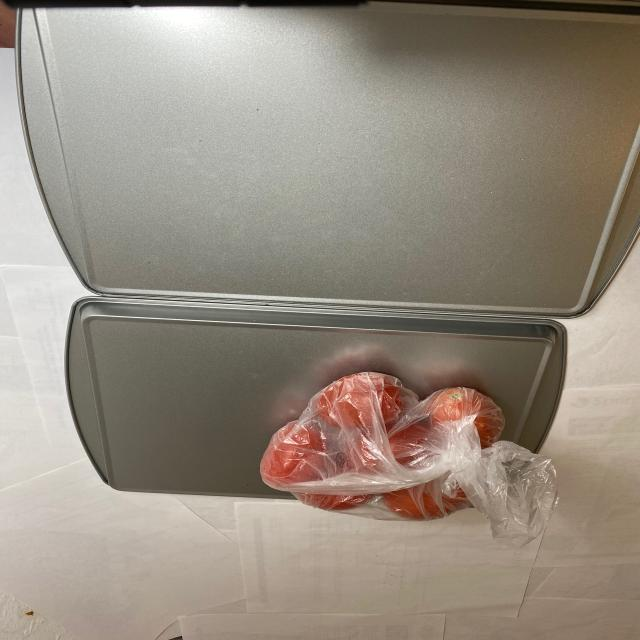tomato: (254, 364, 510, 518)
